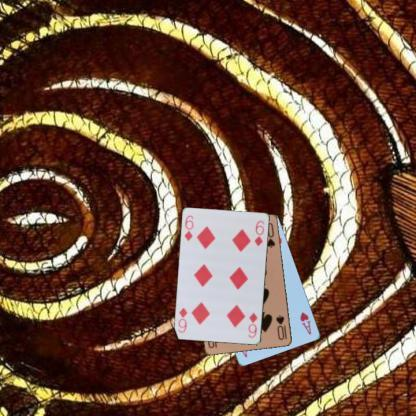10s: (274, 312, 288, 342)
6d: (246, 310, 259, 339), (182, 213, 195, 242)
Ah: (298, 310, 312, 336)
